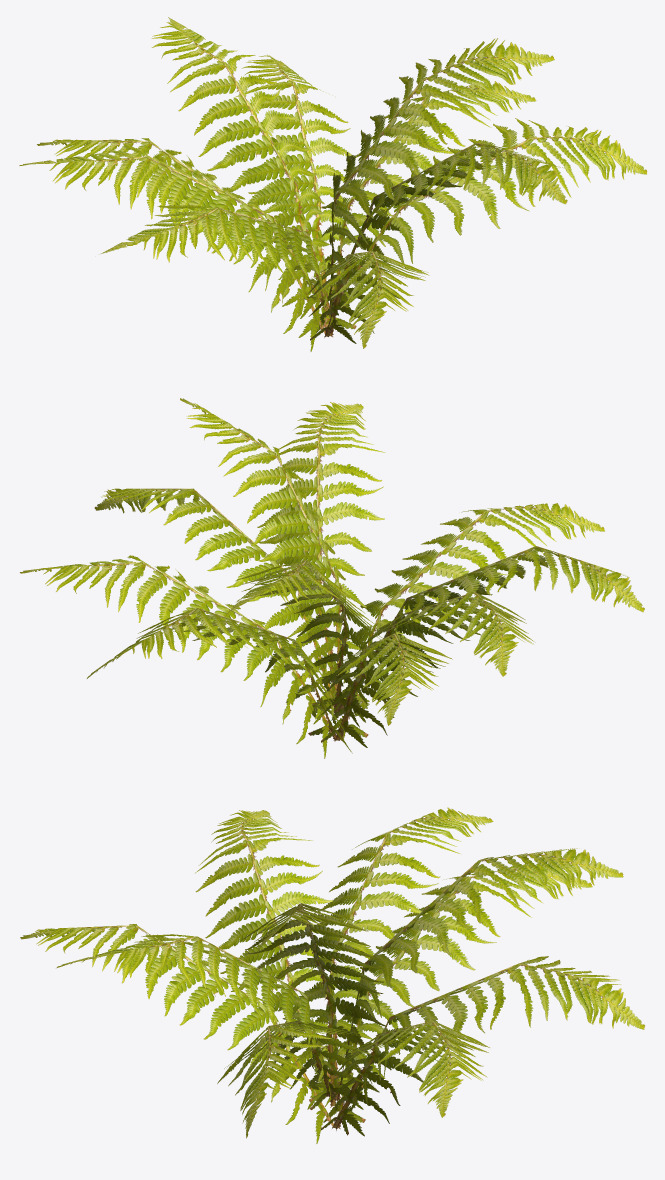
File: SM_Fern.fbx
3 renders of one model, top to bottom at view 1: azimuth 30°, elevation 25°; view 2: azimuth 150°, elevation 25°; view 3: azimuth 270°, elevation 25°, orthographic. The views are drawn at different scales.
Visible parts, largest first — view 1: polySurface22; view 2: polySurface22; view 3: polySurface22.
Boxes of the visible parts, x1,y1,x2,y2 form: polySurface22: (19, 17, 647, 351); polySurface22: (20, 398, 644, 758); polySurface22: (20, 807, 644, 1143).
Size of the model in its own units: 171 by 86.97 by 160.
Materials: 1 (1 with a texture image).
